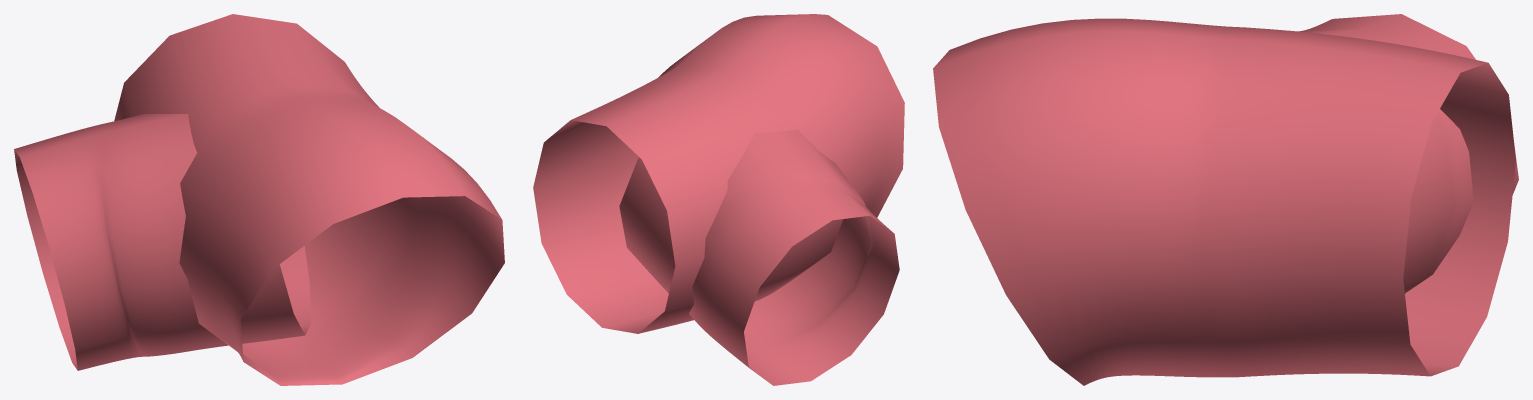
The picture shows the model from 3 angles, left to right: view 1: azimuth 30°, elevation 25°; view 2: azimuth 150°, elevation 25°; view 3: azimuth 270°, elevation 25°; orthographic projection. The views are drawn at different scales.
Parts seen in each view (by area): view 1: ZA_40cf911a7f6cc50f; view 2: ZA_40cf911a7f6cc50f; view 3: ZA_40cf911a7f6cc50f.
Boxes of the visible parts, box(x1,y1,x2,y2) form: ZA_40cf911a7f6cc50f: box(14, 14, 504, 385); ZA_40cf911a7f6cc50f: box(533, 14, 904, 385); ZA_40cf911a7f6cc50f: box(933, 14, 1518, 385).
Size of the model in its own units: 0.04 by 0.0298 by 0.0448.
